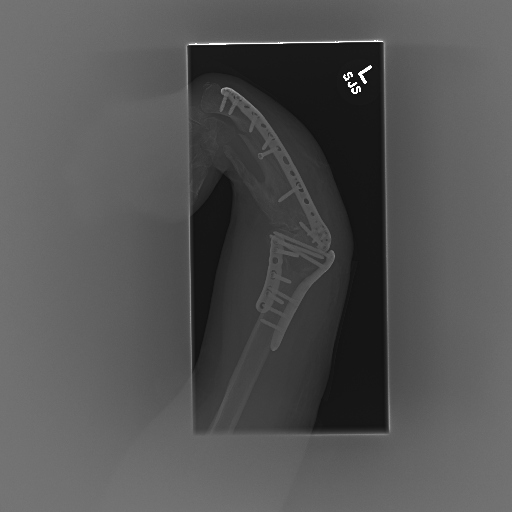implant: (220, 87, 333, 251), (259, 232, 332, 343)
